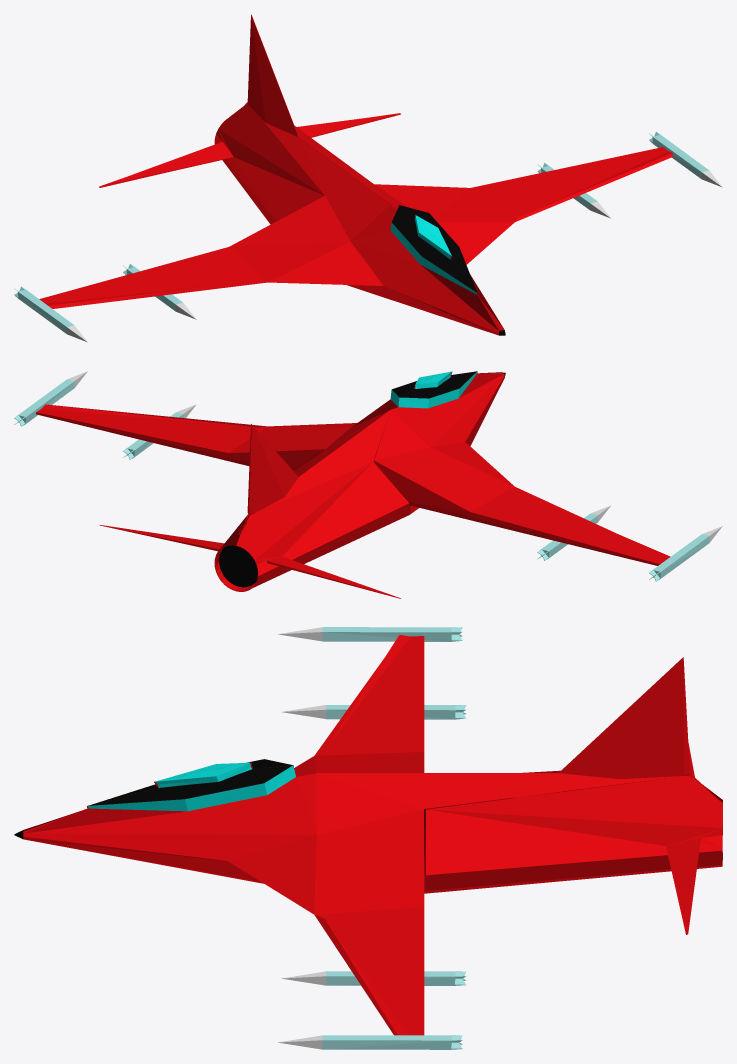
Rendered from RedPlane.fbx.
3 renders of one model, top to bottom at view 1: azimuth 30°, elevation 25°; view 2: azimuth 150°, elevation 25°; view 3: azimuth 270°, elevation 25°, orthographic. The views are drawn at different scales.
Visible parts, largest first — view 1: BluePlane.001; view 2: BluePlane.001; view 3: BluePlane.001.
Boxes of the visible parts, box(x1,y1,x2,y2) form: BluePlane.001: box(14, 14, 722, 342); BluePlane.001: box(14, 371, 722, 598); BluePlane.001: box(14, 627, 722, 1049).
Size of the model in its own units: 1479 by 395 by 1072.
